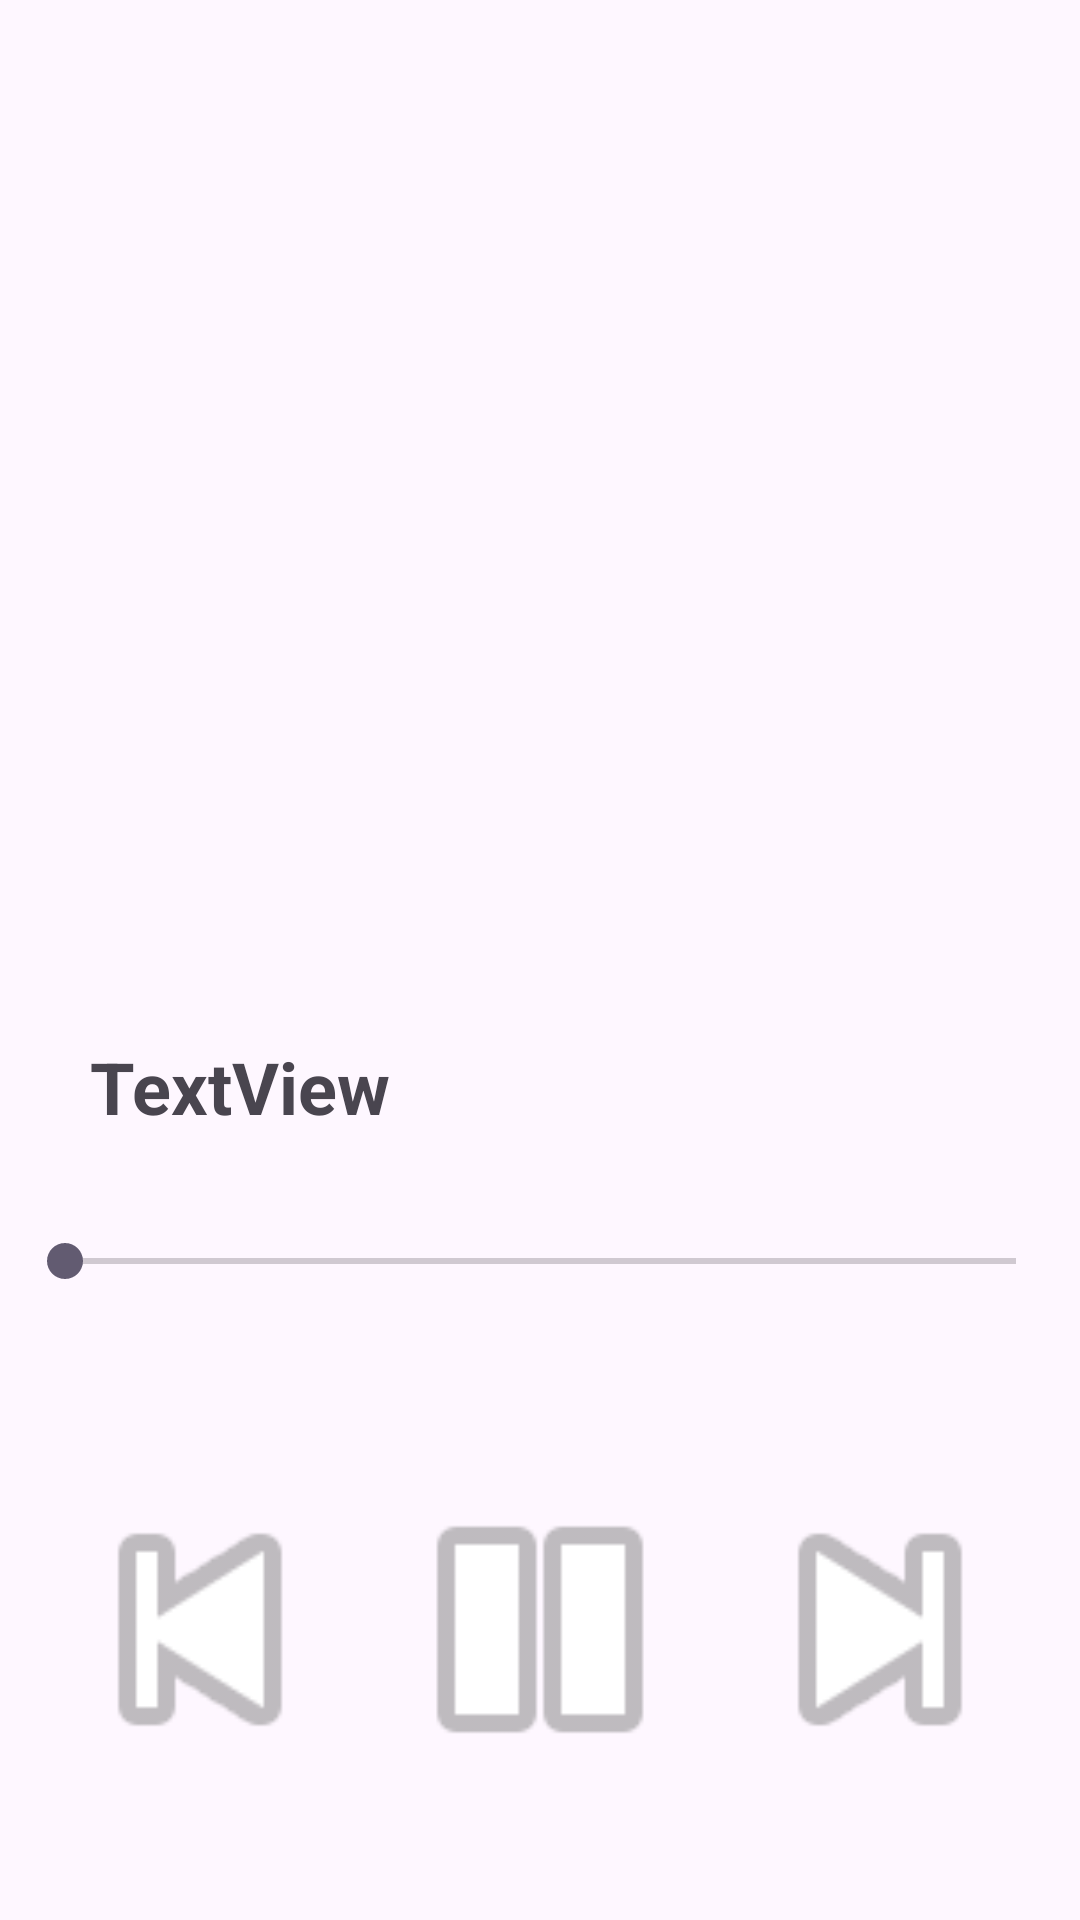

Named icons in this screenshot (1080×1920) and their bounding boxes, (x1, y1, x2, y2):
next: (798, 1533, 962, 1726)
pause: (437, 1526, 643, 1733)
previous: (118, 1533, 282, 1726)
